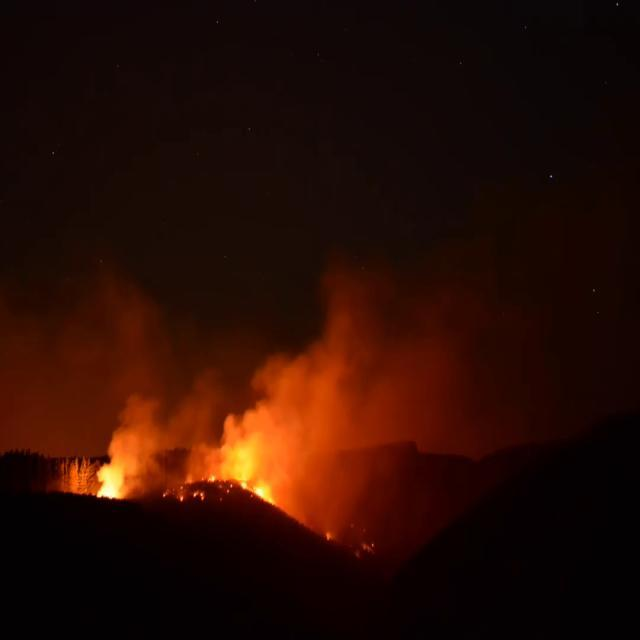Fire: (162, 474, 216, 505), (95, 462, 124, 500), (236, 479, 278, 504), (360, 538, 378, 558), (322, 526, 337, 546)
Smoke: (10, 224, 640, 558)
